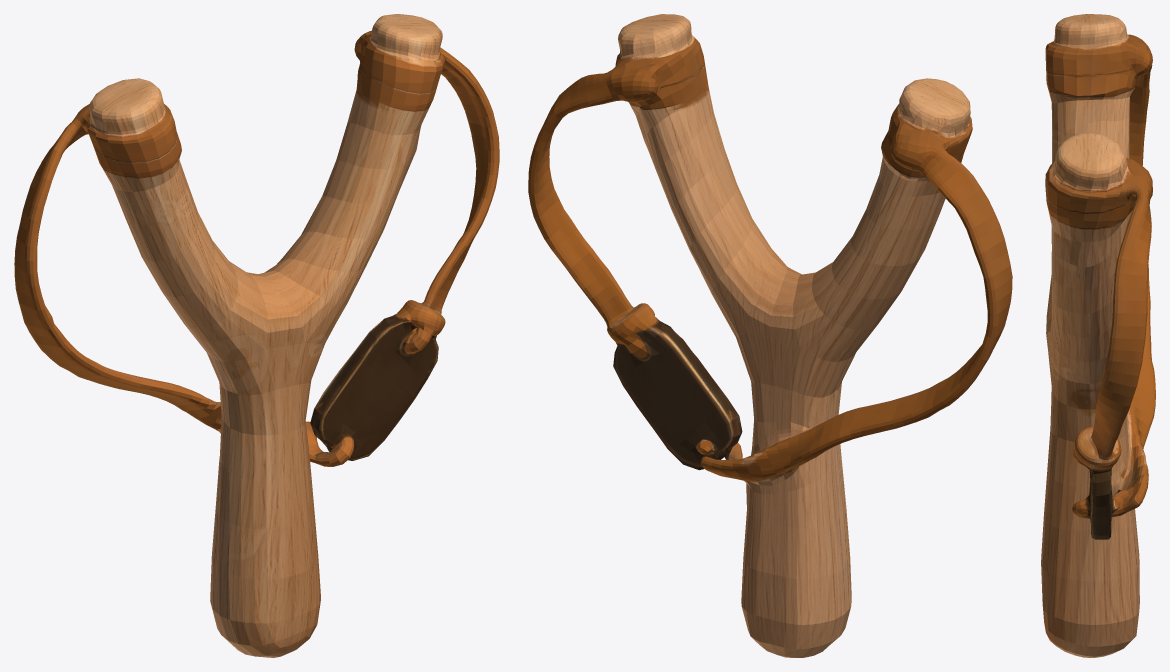
File: Meshy_AI_Wooden_Slingshot_0519051337_texture.obj
The picture shows the model from 3 angles, left to right: view 1: azimuth 30°, elevation 25°; view 2: azimuth 150°, elevation 25°; view 3: azimuth 270°, elevation 25°; orthographic projection. The views are drawn at different scales.
Parts seen in each view (by area): view 1: Meshy_AI_Wooden_Slingshot_0519051337_texture; view 2: Meshy_AI_Wooden_Slingshot_0519051337_texture; view 3: Meshy_AI_Wooden_Slingshot_0519051337_texture.
Part boxes in pixels (<box>): Meshy_AI_Wooden_Slingshot_0519051337_texture: <box>14,14,499,657</box>; Meshy_AI_Wooden_Slingshot_0519051337_texture: <box>528,14,1012,657</box>; Meshy_AI_Wooden_Slingshot_0519051337_texture: <box>1041,14,1155,657</box>.
Size of the model in its own units: 1.58 by 1.91 by 0.3466.
1 material, 1 textured.
